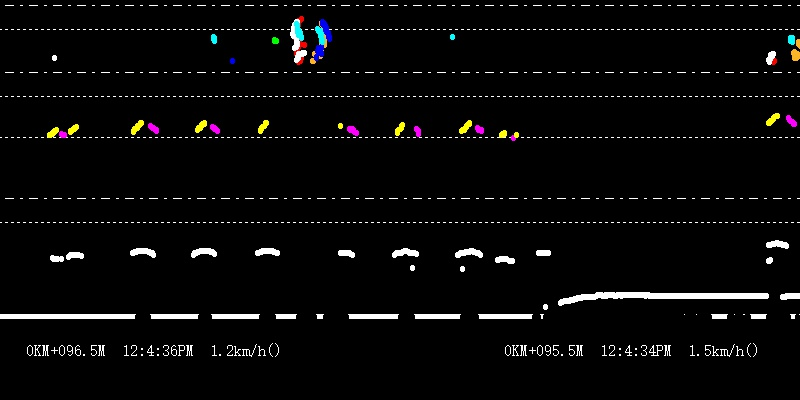J: (288, 4, 333, 64)
face_down: (444, 19, 459, 46), (207, 25, 219, 48)
y_p: (117, 113, 488, 276)
